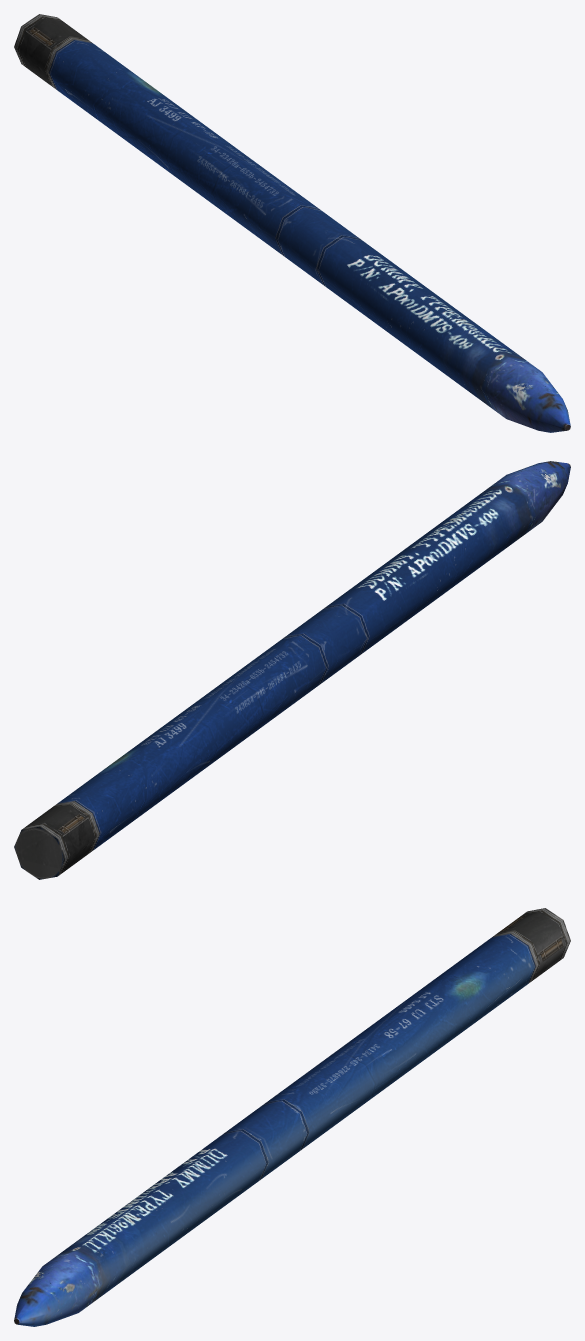
File: HYDRA70.FBX
The picture shows the model from 3 angles, top to bottom: view 1: azimuth 30°, elevation 25°; view 2: azimuth 150°, elevation 25°; view 3: azimuth 330°, elevation 25°; orthographic projection.
Parts seen in each view (by area): view 1: Object01; view 2: Object01; view 3: Object01.
Part boxes in pixels (x1=…): Object01: x1=14, y1=14, x2=570, y2=432; Object01: x1=14, y1=461, x2=570, y2=879; Object01: x1=14, y1=908, x2=570, y2=1326.
Size of the model in its own units: 9.61 by 9.61 by 173.
Materials: 1 (1 with a texture image).
